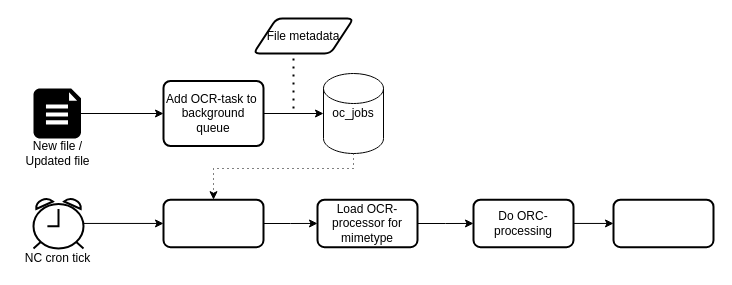
This 732x285 diagram has some shape labels left out. The centre of each missing label's shape, as x and y in pixels:
Create new file version: point 663,223
Read OCR-tasks: point 213,223
